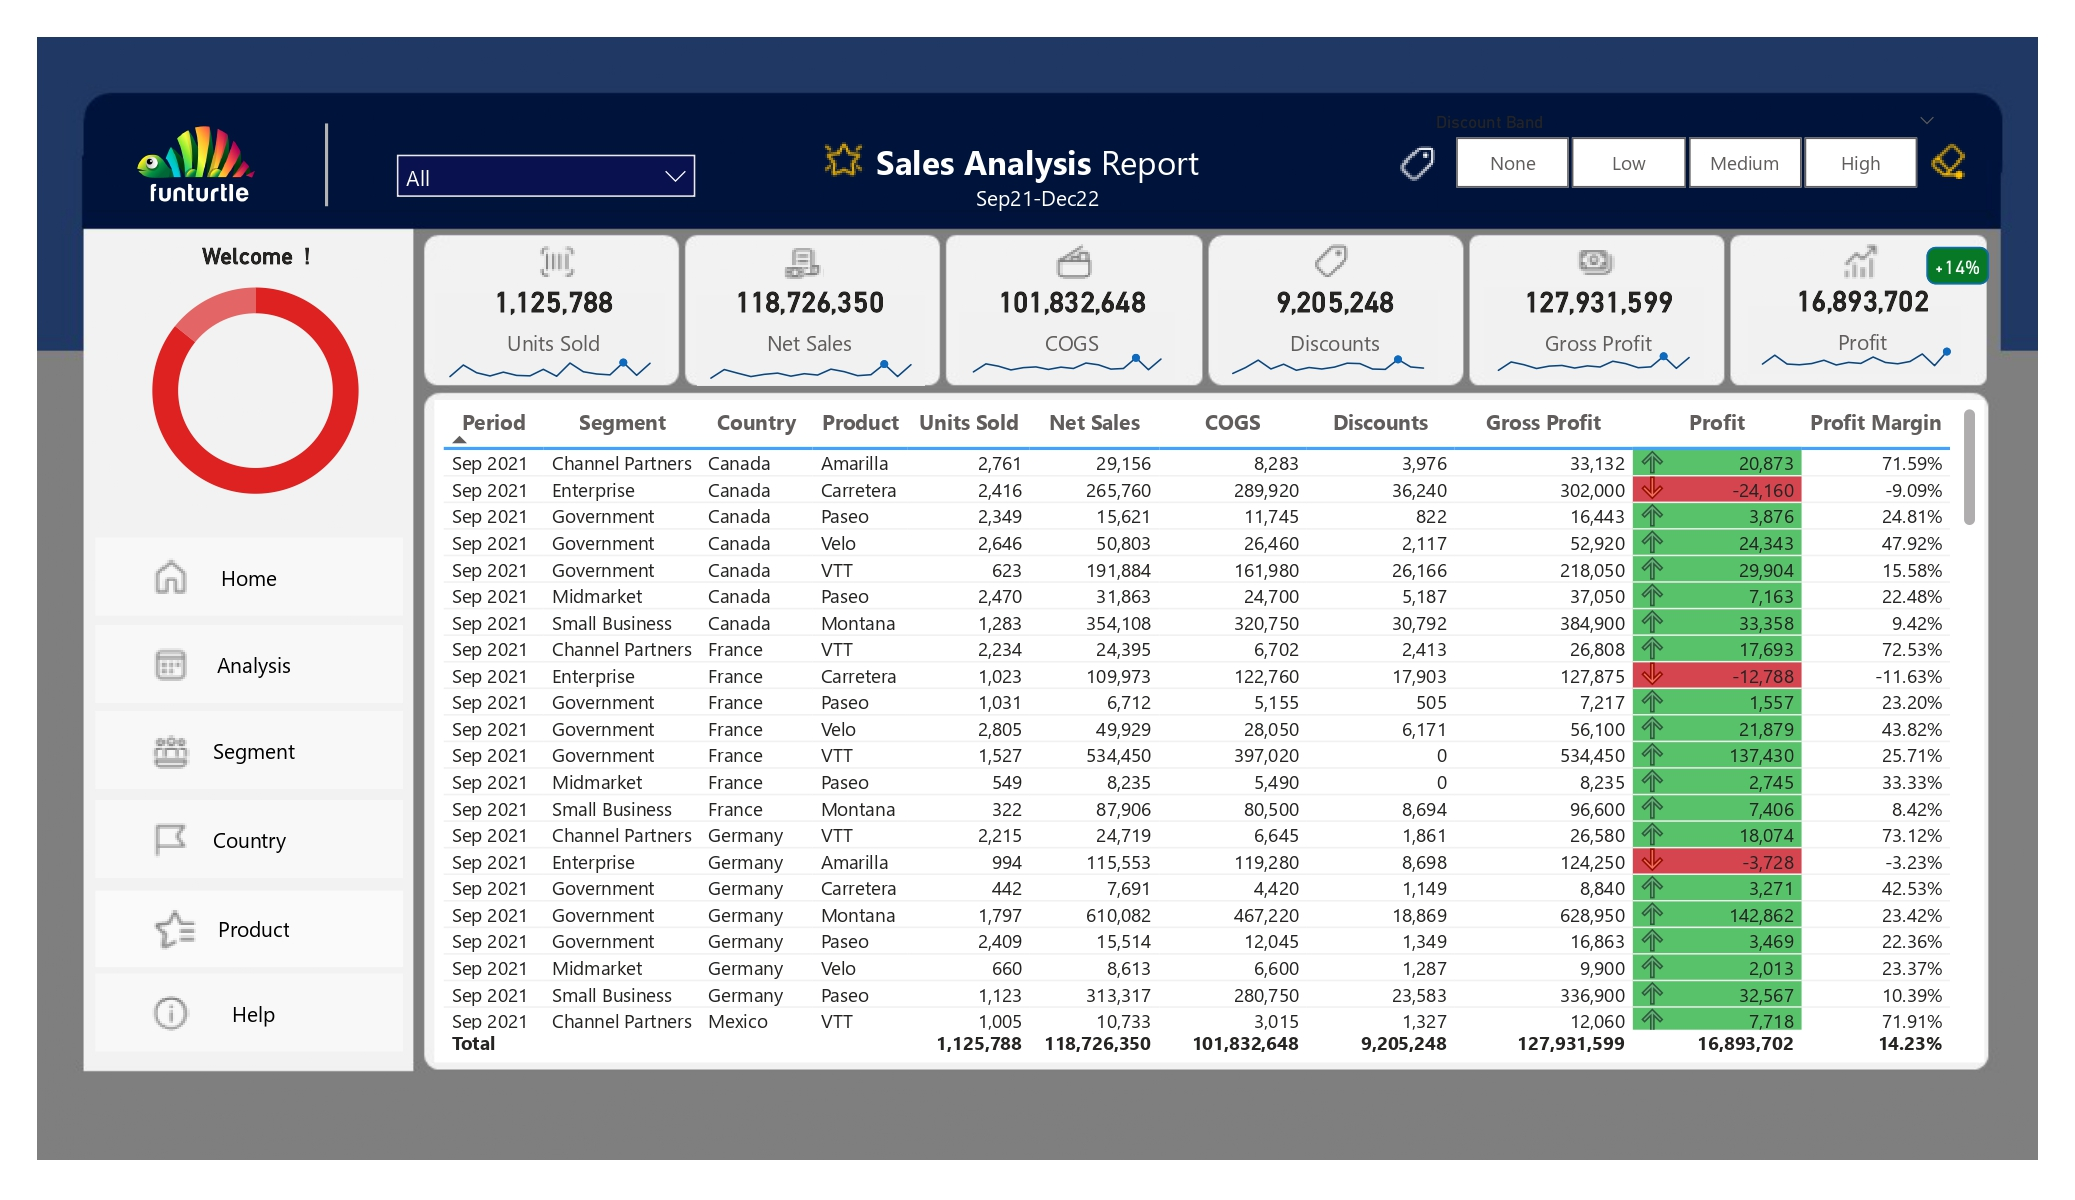

The page's visual inventory and layout, read from the dashboard file:
{"tool":"powerbi","page":{"name":"Sale Analysis","canvas":[1280,720],"ordinal":1},"visuals":[{"type":"shape","box":[1197.5,235.4,53.2,24.1],"z":0},{"type":"shape","box":[1208.9,134.2,40.5,24.1],"z":1000},{"type":"tableEx","fields":{"Values":["SparklineData(_Calculations.Profit_[Calender.MonthInCalendar])"]},"box":[1088.5,167.2,163,59.5],"z":2000},{"type":"tableEx","fields":{"Values":["SparklineData(_Calculations.Gross Profit_[Calender.MonthInCalendar])"]},"box":[920,154.7,161.4,78.6],"z":3000},{"type":"tableEx","fields":{"Values":["SparklineData(_Calculations.Discounts_[Calender.MonthInCalendar])"]},"box":[750,157.1,161.4,78.6],"z":4000},{"type":"tableEx","fields":{"Values":["SparklineData(_Calculations.Net Sales_[Calender.MonthInCalendar])"]},"box":[415.7,160.4,167.1,68.6],"z":5000},{"type":"tableEx","fields":{"Values":["SparklineData(_Calculations.COGS_[Calender.MonthInCalendar])"]},"box":[584.3,171.4,165.7,55.7],"z":6000},{"type":"tableEx","fields":{"Values":["SparklineData(_Calculations.Units Sold_[Calender.MonthInCalendar])"]},"box":[248.6,158.6,167.1,68.6],"z":7000},{"type":"image","box":[52.9,27.1,97.1,107.1],"z":8000},{"type":"textbox","box":[506.1,59.5,267.9,42.5],"z":9000},{"type":"textbox","box":[557,89.3,165.8,45.4],"z":10000},{"type":"slicer","fields":{"Values":["Managers.First Name"]},"box":[219.7,65.2,211.2,46.8],"z":11000},{"type":"shape","box":[150.2,55.3,69.4,52.4],"z":12000},{"type":"actionButton","box":[498.9,60.9,38.3,34],"z":13000},{"type":"slicer","fields":{"Values":["Sales.Discount Band"]},"box":[881.6,42.5,345.8,60.9],"z":14000},{"type":"actionButton","box":[866,63.8,38.3,34],"z":15000},{"type":"actionButton","box":[1206.1,62.4,38.3,34],"z":16000},{"type":"card","fields":{"Values":["_Calculations.Units Sold"]},"box":[254.3,150.4,152.9,55.7],"z":17000},{"type":"card","fields":{"Values":["_Calculations.Gross Profit"]},"box":[918.3,150.4,161.4,55.7],"z":18000},{"type":"card","fields":{"Values":["_Calculations.Discounts"]},"box":[749.4,150.4,162.9,55.7],"z":19000},{"type":"card","fields":{"Values":["_Calculations.COGS"]},"box":[580.6,150.4,162.9,55.7],"z":20000},{"type":"card","fields":{"Values":["_Calculations.Profit"]},"box":[1085.7,149.4,161.4,55.7],"z":21000},{"type":"card","fields":{"Values":["_Calculations.Net Sales"]},"box":[413.1,150.4,161.4,55.7],"z":22000},{"type":"lineChart","title":"Units Sold by Month","fields":{"Y":["_Calculations.Units Sold"],"Category":["Calender.Date.Variation.Date Hierarchy.Year","Calender.Date.Variation.Date Hierarchy.Month"]},"box":[248,235.3,330.2,215.4],"z":23000},{"type":"lineChart","title":"Net Sales by Month","fields":{"Category":["Calender.Date.Variation.Date Hierarchy.Year","Calender.Date.Variation.Date Hierarchy.Month"],"Y":["_Calculations.Net Sales"]},"box":[581.1,235.3,330.2,215.4],"z":24000},{"type":"lineChart","title":"Profit by Month","fields":{"Category":["Calender.Date.Variation.Date Hierarchy.Year","Calender.Date.Variation.Date Hierarchy.Month"],"Y":["_Calculations.Profit"]},"box":[917.7,235.4,330.4,215.2],"z":25000},{"type":"lineChart","title":"COGS by Month","fields":{"Category":["Calender.Date.Variation.Date Hierarchy.Year","Calender.Date.Variation.Date Hierarchy.Month"],"Y":["_Calculations.COGS"]},"box":[248,455,330.2,205.5],"z":26000},{"type":"tableEx","fields":{"Values":["Calender.MonthInCalendar","_Calculations.Units Sold","_Calculations.Net Sales","_Calculations.COGS","_Calculations.Discounts","_Calculations.Gross Profit","_Calculations.Profit","_Calculations.Profit Margin"]},"box":[589.6,457.8,656.2,192.8],"z":27000},{"type":"actionButton","box":[315.7,127.1,38.6,32.9],"z":28000},{"type":"actionButton","box":[474.3,127.1,38.6,32.9],"z":29000},{"type":"actionButton","box":[647.1,127.1,38.6,32.9],"z":30000},{"type":"actionButton","box":[811.4,127.1,38.6,32.9],"z":31000},{"type":"actionButton","box":[981.4,127.1,38.6,32.9],"z":32000},{"type":"actionButton","box":[1150,127.1,38.6,32.9],"z":33000},{"type":"actionButton","box":[37.1,320,197.1,50],"z":34000},{"type":"actionButton","box":[37.1,375.7,197.1,50],"z":35000},{"type":"actionButton","box":[37.1,431.4,197.1,50],"z":36000},{"type":"actionButton","box":[37.3,487.8,197.1,50],"z":37000},{"type":"actionButton","box":[37.3,543.5,197.1,50],"z":38000},{"type":"actionButton","box":[37.3,599.2,197.1,50],"z":39000},{"type":"pieChart","fields":{"Y":["_Calculations.Cost to Sales%","_Calculations.Profit Margin"]},"box":[52.4,137.5,174.3,177.2],"z":40000},{"type":"card","fields":{"Values":["_Calculations.Greetings"]},"box":[48.2,107.7,182.8,66.6],"z":41000},{"type":"card","fields":{"Values":["_Calculations.Profit Margin Format"]},"box":[1206.3,134.2,44.3,25.3],"z":42000},{"type":"card","fields":{"Values":["_Calculations.Profit YoY%"]},"box":[1192.4,234.2,64.6,25.3],"z":43000}]}

Visuals, with their boxes on the page's 1280x720 design canvas (x1, y1, x2, y2). These are canvas units, not pixel positions in the 2075x1200 screenshot, which may show the page scaled, cropped or inside an application window:
shape: box(1198, 235, 1251, 260)
shape: box(1209, 134, 1249, 158)
tableEx - SparklineData(_Calculations.Profit_[Calender.MonthInCalendar]): box(1088, 167, 1252, 227)
tableEx - SparklineData(_Calculations.Gross Profit_[Calender.MonthInCalendar]): box(920, 155, 1081, 233)
tableEx - SparklineData(_Calculations.Discounts_[Calender.MonthInCalendar]): box(750, 157, 911, 236)
tableEx - SparklineData(_Calculations.Net Sales_[Calender.MonthInCalendar]): box(416, 160, 583, 229)
tableEx - SparklineData(_Calculations.COGS_[Calender.MonthInCalendar]): box(584, 171, 750, 227)
tableEx - SparklineData(_Calculations.Units Sold_[Calender.MonthInCalendar]): box(249, 159, 416, 227)
image: box(53, 27, 150, 134)
textbox: box(506, 60, 774, 102)
textbox: box(557, 89, 723, 135)
slicer - Managers.First Name: box(220, 65, 431, 112)
shape: box(150, 55, 220, 108)
actionButton: box(499, 61, 537, 95)
slicer - Sales.Discount Band: box(882, 42, 1227, 103)
actionButton: box(866, 64, 904, 98)
actionButton: box(1206, 62, 1244, 96)
card - _Calculations.Units Sold: box(254, 150, 407, 206)
card - _Calculations.Gross Profit: box(918, 150, 1080, 206)
card - _Calculations.Discounts: box(749, 150, 912, 206)
card - _Calculations.COGS: box(581, 150, 744, 206)
card - _Calculations.Profit: box(1086, 149, 1247, 205)
card - _Calculations.Net Sales: box(413, 150, 574, 206)
"Units Sold by Month" lineChart: box(248, 235, 578, 451)
"Net Sales by Month" lineChart: box(581, 235, 911, 451)
"Profit by Month" lineChart: box(918, 235, 1248, 451)
"COGS by Month" lineChart: box(248, 455, 578, 660)
tableEx - Calender.MonthInCalendar x _Calculations.Units Sold: box(590, 458, 1246, 651)
actionButton: box(316, 127, 354, 160)
actionButton: box(474, 127, 513, 160)
actionButton: box(647, 127, 686, 160)
actionButton: box(811, 127, 850, 160)
actionButton: box(981, 127, 1020, 160)
actionButton: box(1150, 127, 1189, 160)
actionButton: box(37, 320, 234, 370)
actionButton: box(37, 376, 234, 426)
actionButton: box(37, 431, 234, 481)
actionButton: box(37, 488, 234, 538)
actionButton: box(37, 544, 234, 594)
actionButton: box(37, 599, 234, 649)
pieChart - _Calculations.Cost to Sales% x _Calculations.Profit Margin: box(52, 138, 227, 315)
card - _Calculations.Greetings: box(48, 108, 231, 174)
card - _Calculations.Profit Margin Format: box(1206, 134, 1251, 160)
card - _Calculations.Profit YoY%: box(1192, 234, 1257, 260)
